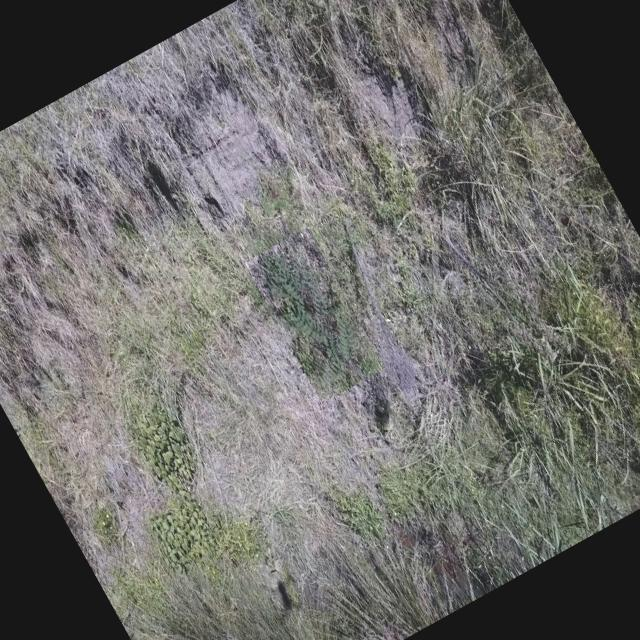Mysore-Thorn-Weed: (244, 228, 386, 404)
